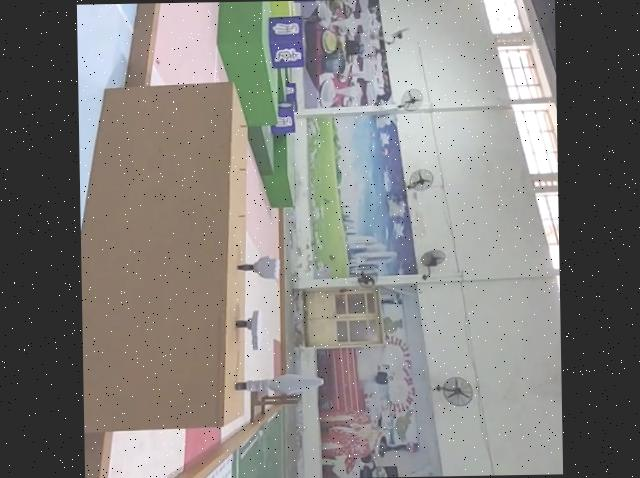Fist: (239, 254, 280, 282)
Hand: (234, 308, 263, 351)
Sph: (231, 372, 324, 396)
